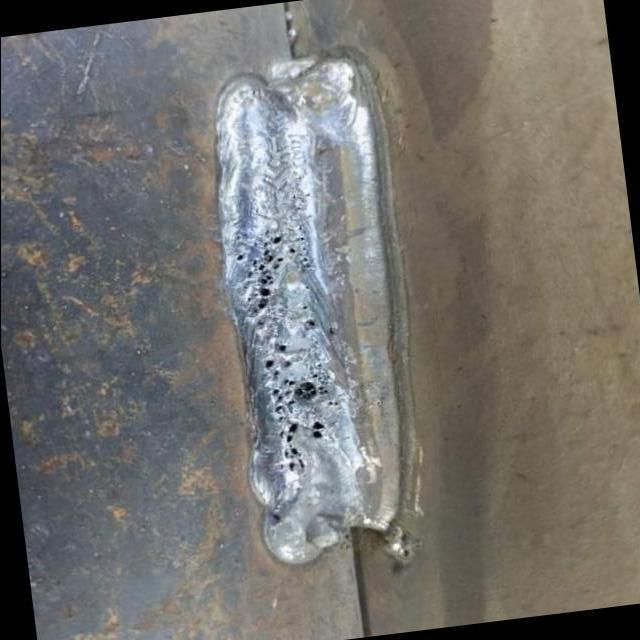defect: (259, 339, 339, 479), (232, 228, 302, 320), (298, 311, 320, 332)
